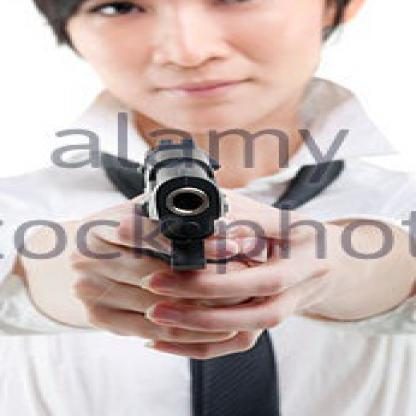gun: (132, 142, 231, 300)
